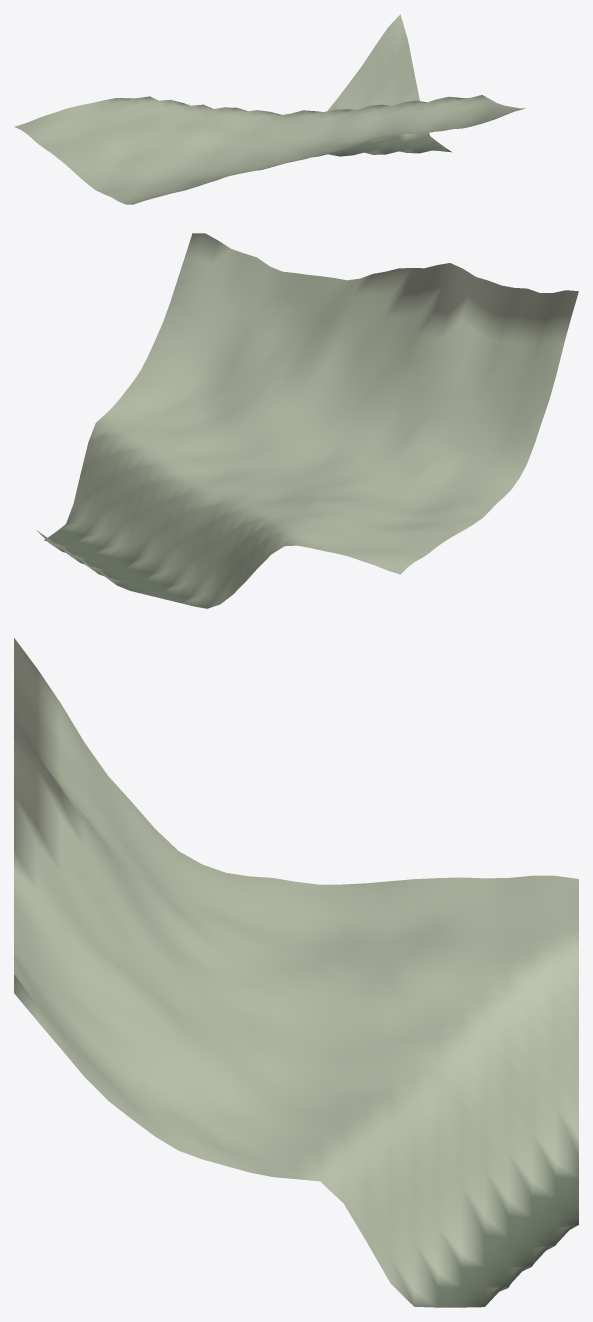
3 renders of one model, top to bottom at view 1: azimuth 30°, elevation 25°; view 2: azimuth 150°, elevation 25°; view 3: azimuth 270°, elevation 25°, orthographic. The views are drawn at different scales.
Visible parts, largest first — view 1: world-ground/150-144; view 2: world-ground/150-144; view 3: world-ground/150-144.
Boxes of the visible parts, left/top/right/bottom form: world-ground/150-144: left=14, top=14, right=525, bottom=204; world-ground/150-144: left=36, top=233, right=578, bottom=608; world-ground/150-144: left=14, top=638, right=578, bottom=1307.
Bounding box in the file's own units: 37.5 × 21.78 × 30.
